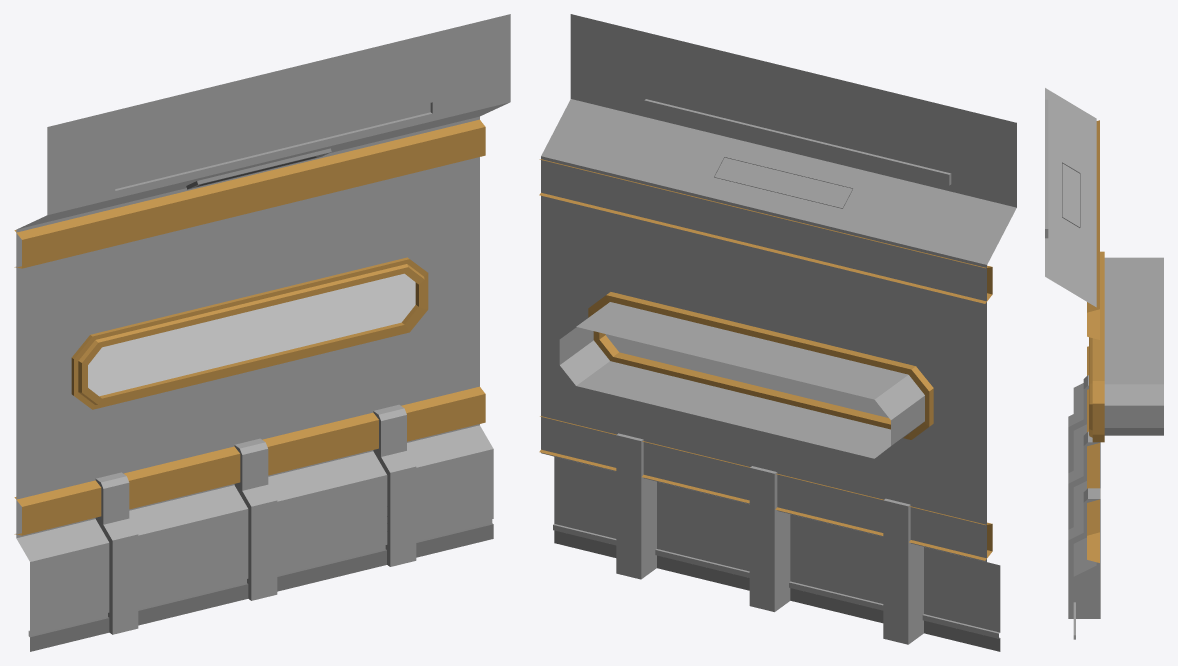
Rendered from LongWindow_Wall_SideA.glb.
The picture shows the model from 3 angles, left to right: view 1: azimuth 30°, elevation 25°; view 2: azimuth 150°, elevation 25°; view 3: azimuth 270°, elevation 25°; orthographic projection. The views are drawn at different scales.
Parts seen in each view (by area): view 1: LongWindow_Wall_SideA; view 2: LongWindow_Wall_SideA; view 3: LongWindow_Wall_SideA.
Part boxes in pixels (x1,y1,x2,y2): LongWindow_Wall_SideA: (14, 14, 510, 651); LongWindow_Wall_SideA: (539, 14, 1016, 651); LongWindow_Wall_SideA: (1045, 88, 1163, 639).
Bounding box in the file's own units: 4 × 4.43 × 1.06.
